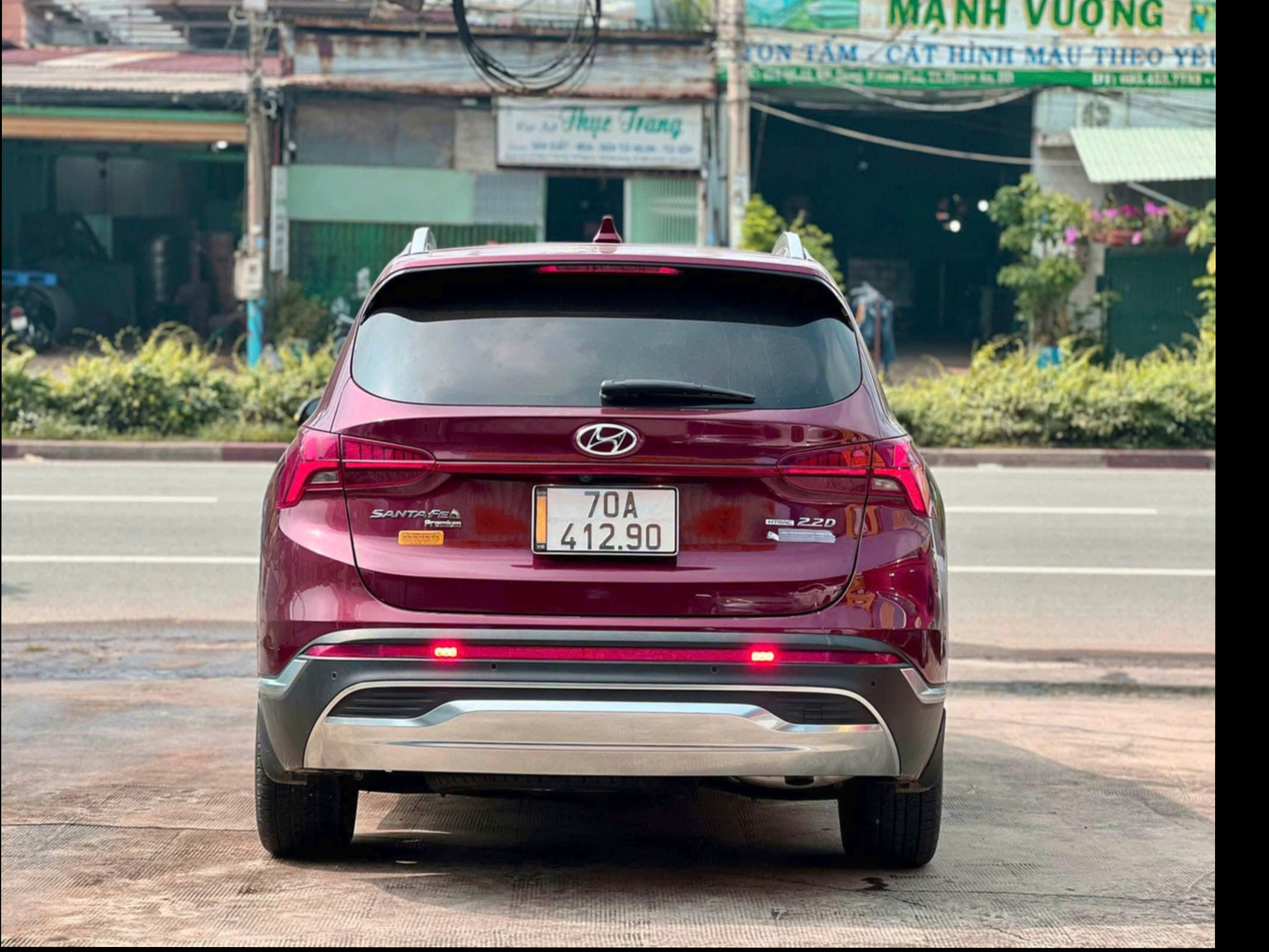Bien-so: (548, 481, 683, 556)
